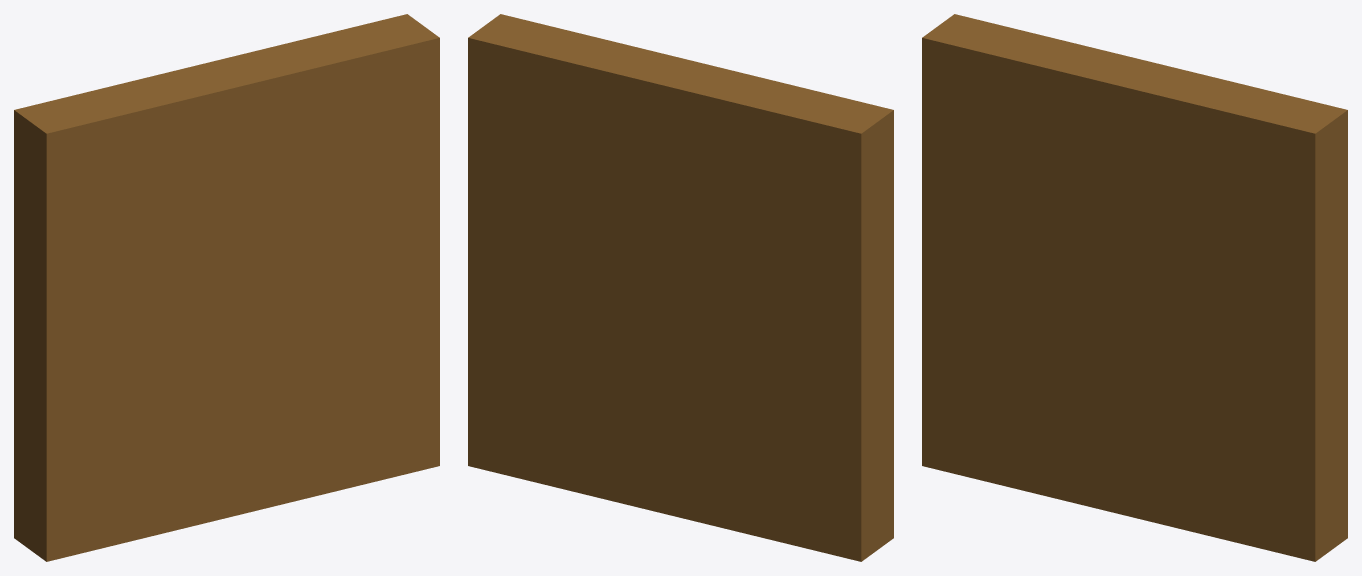
The model's file is House_Kitchen_Goodies_toast.FBX.
The picture shows the model from 3 angles, left to right: view 1: azimuth 30°, elevation 25°; view 2: azimuth 150°, elevation 25°; view 3: azimuth 330°, elevation 25°; orthographic projection.
Parts seen in each view (by area): view 1: House_Kitchen_Goodies_toast; view 2: House_Kitchen_Goodies_toast; view 3: House_Kitchen_Goodies_toast.
Part boxes in pixels (x1=…): House_Kitchen_Goodies_toast: x1=14, y1=14, x2=439, y2=561; House_Kitchen_Goodies_toast: x1=468, y1=14, x2=893, y2=561; House_Kitchen_Goodies_toast: x1=922, y1=14, x2=1347, y2=561.
Size of the model in its own units: 37.53 by 39.05 by 5.38.
